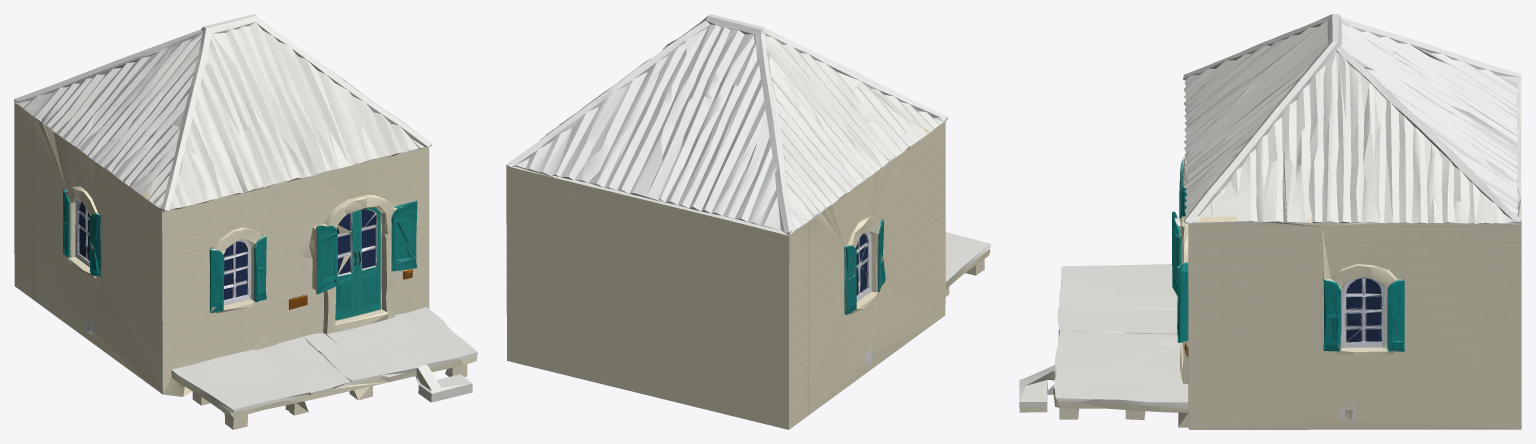
File: bermuda-house-b.glb
The picture shows the model from 3 angles, left to right: view 1: azimuth 30°, elevation 25°; view 2: azimuth 150°, elevation 25°; view 3: azimuth 270°, elevation 25°; orthographic projection. The views are drawn at different scales.
Parts seen in each view (by area): view 1: output_unwrapped; view 2: output_unwrapped; view 3: output_unwrapped.
Part boxes in pixels (left/top/right/bottom): output_unwrapped: left=14, top=14, right=477, bottom=429; output_unwrapped: left=506, top=14, right=990, bottom=429; output_unwrapped: left=1019, top=14, right=1521, bottom=429.
Size of the model in its own units: 1.37 by 1.37 by 1.9.
Materials: 1 (1 with a texture image).
